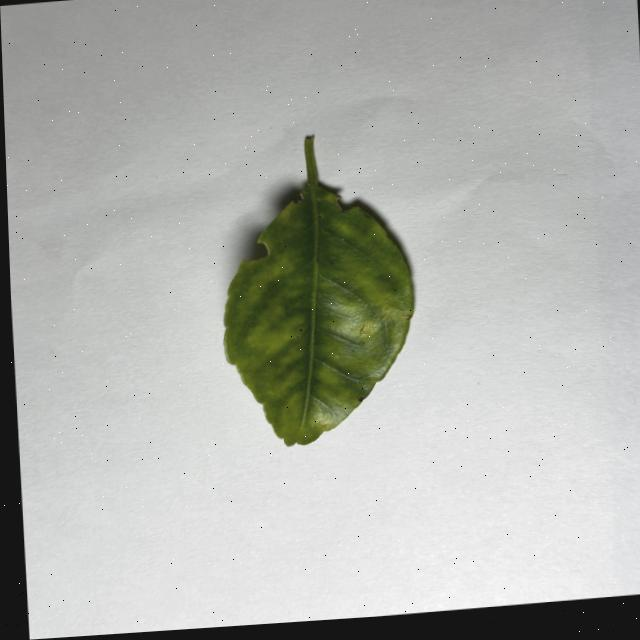greening: (224, 136, 413, 446)
